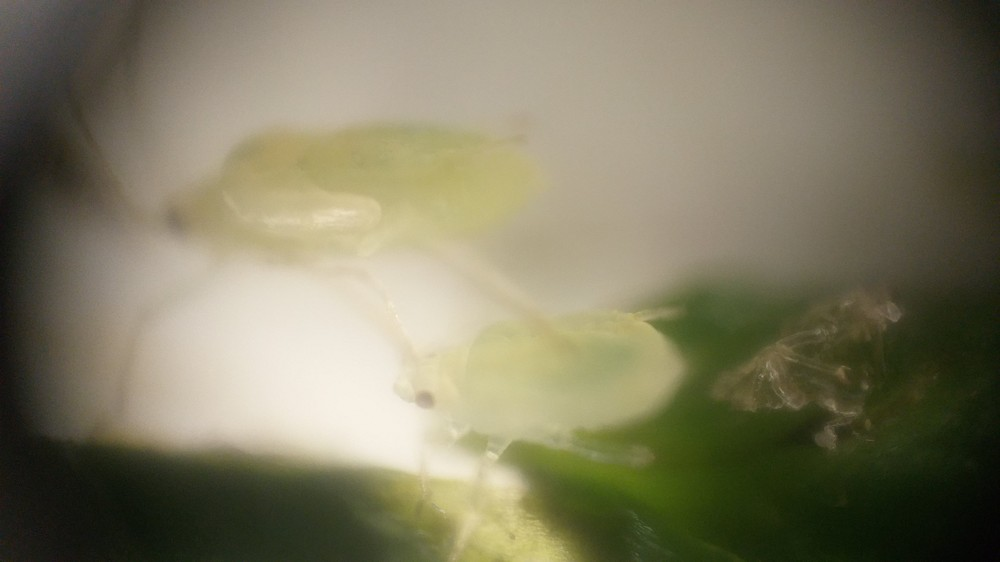Pulgon: (64, 34, 600, 408), (350, 273, 761, 490)
